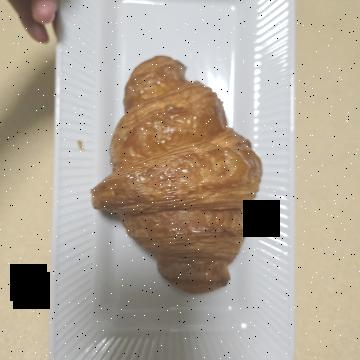croissant: (44, 98, 302, 284)
